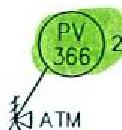psv: (6, 94, 33, 129)
